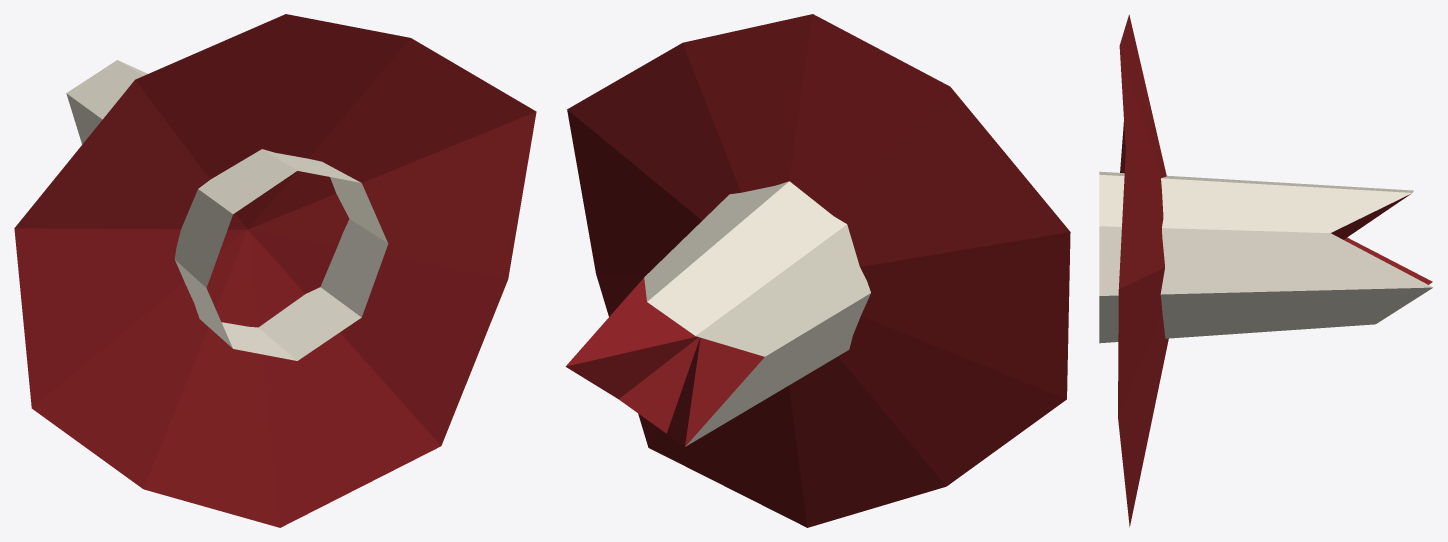
Rendered from gib_stump.glb.
3 renders of one model, left to right at view 1: azimuth 30°, elevation 25°; view 2: azimuth 150°, elevation 25°; view 3: azimuth 270°, elevation 25°, orthographic. The views are drawn at different scales.
Parts seen in each view (by area): view 1: BloodyStump; view 2: BloodyStump; view 3: BloodyStump.
Part boxes in pixels (<box>): BloodyStump: <box>14,14,536,527</box>; BloodyStump: <box>565,14,1070,527</box>; BloodyStump: <box>1099,14,1433,527</box>.
Bounding box in the file's own units: 0.2149 × 0.2058 × 0.1383.
